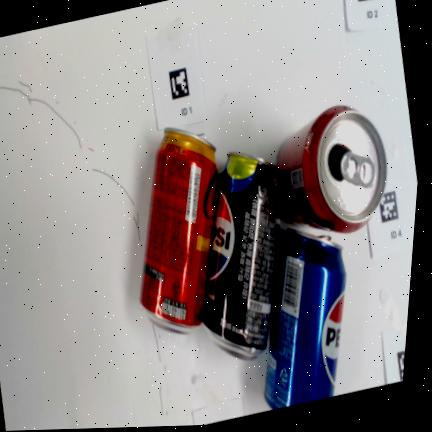can_coke_decaf: (140, 128, 218, 332)
can_coke_zero: (276, 105, 387, 233)
can_pepsi: (264, 229, 346, 409)
can_pepsi_zero: (203, 152, 281, 359)
